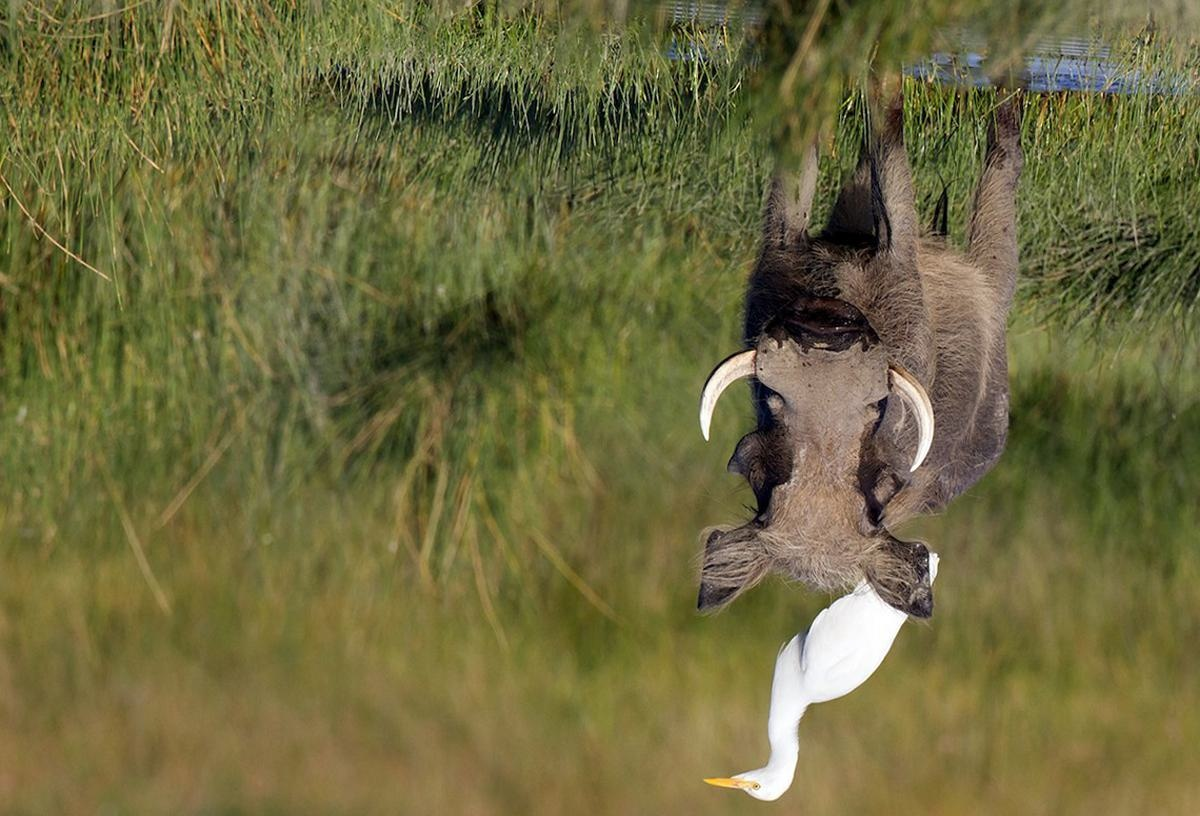egret: (709, 556, 944, 811)
